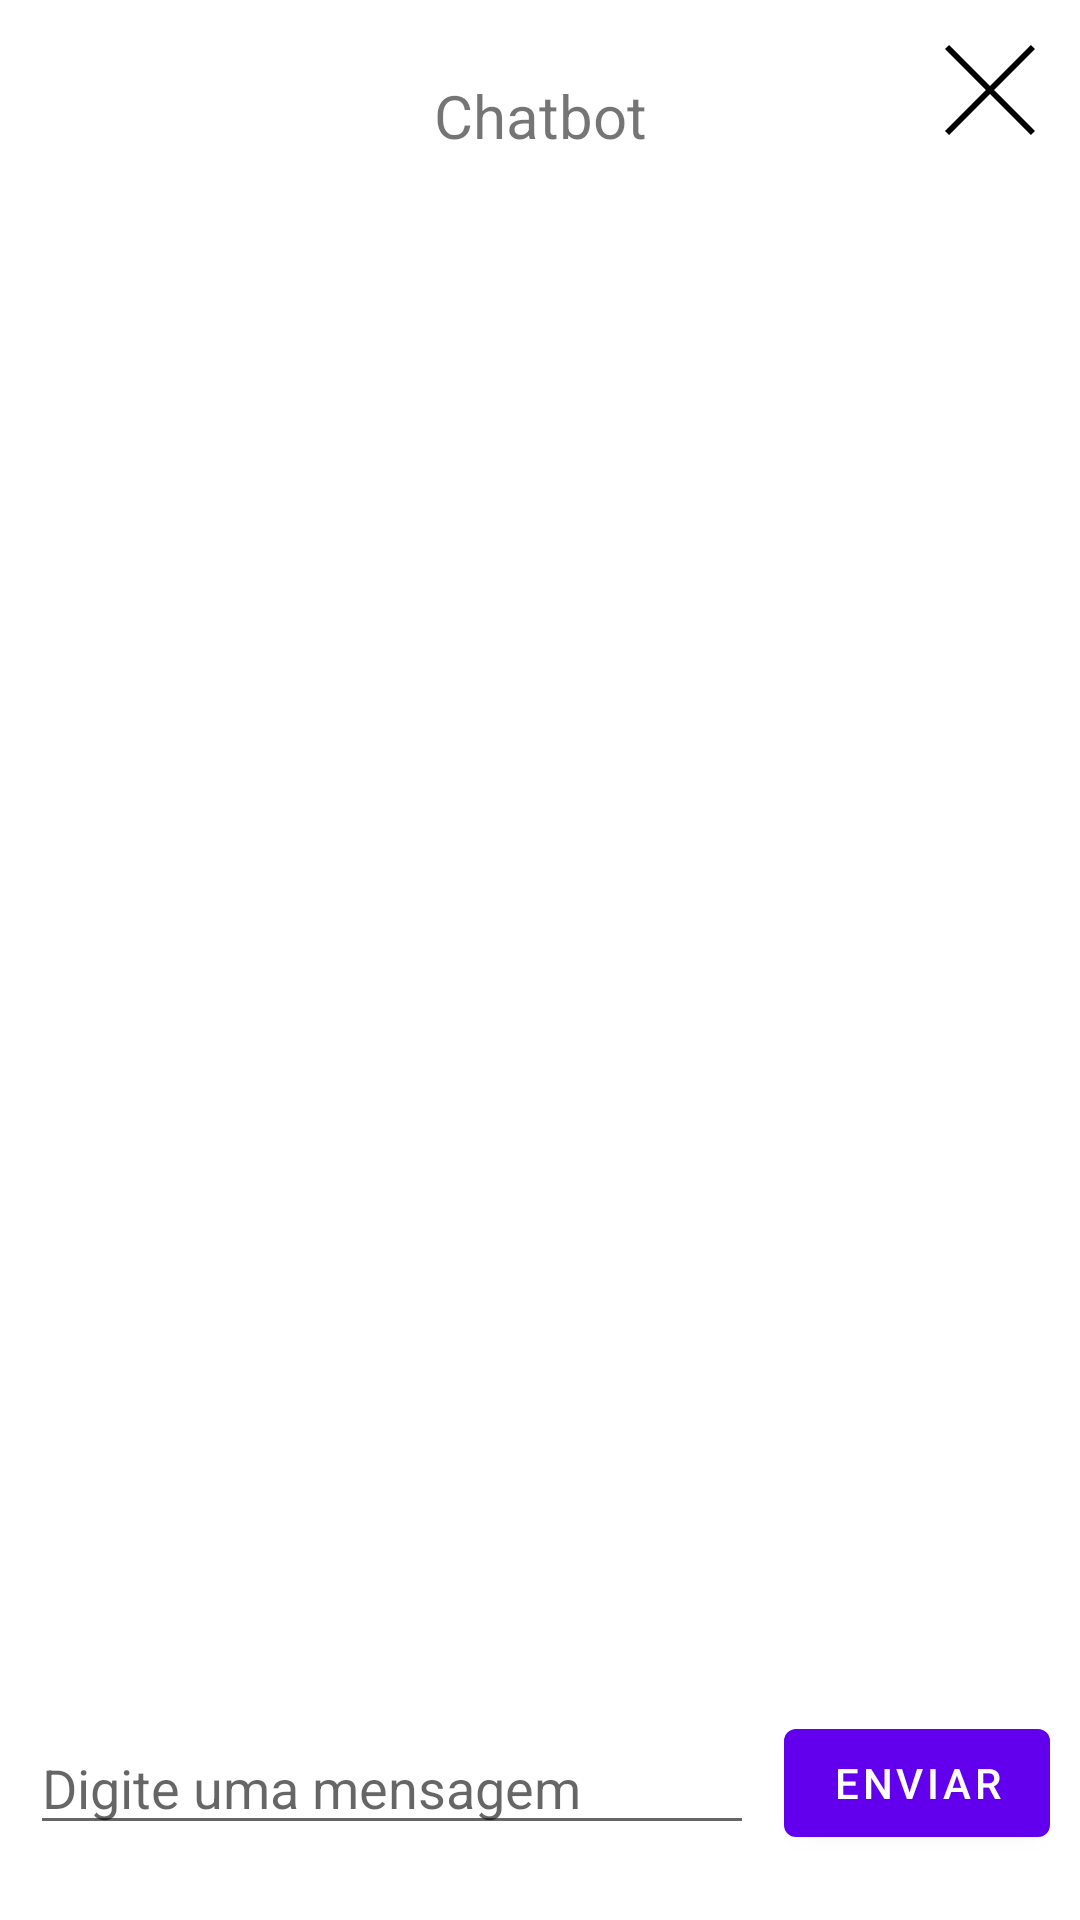

Icons on this 1080x1920 Android screen, each with the point to tap as (x,y):
multiply: (990,90)
